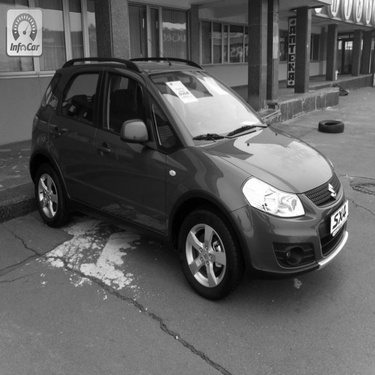car: (18, 46, 354, 303)
